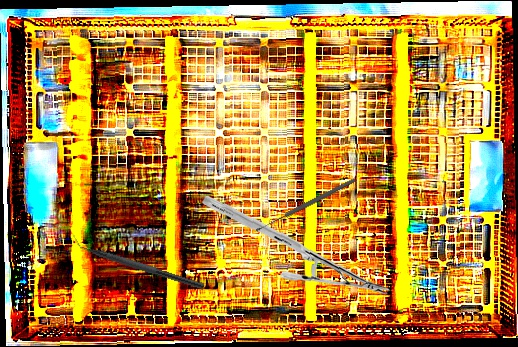Chopper: (68, 232, 208, 291)
Needle Holder: (202, 189, 390, 303)
Surgical Spoon: (254, 177, 357, 233)
